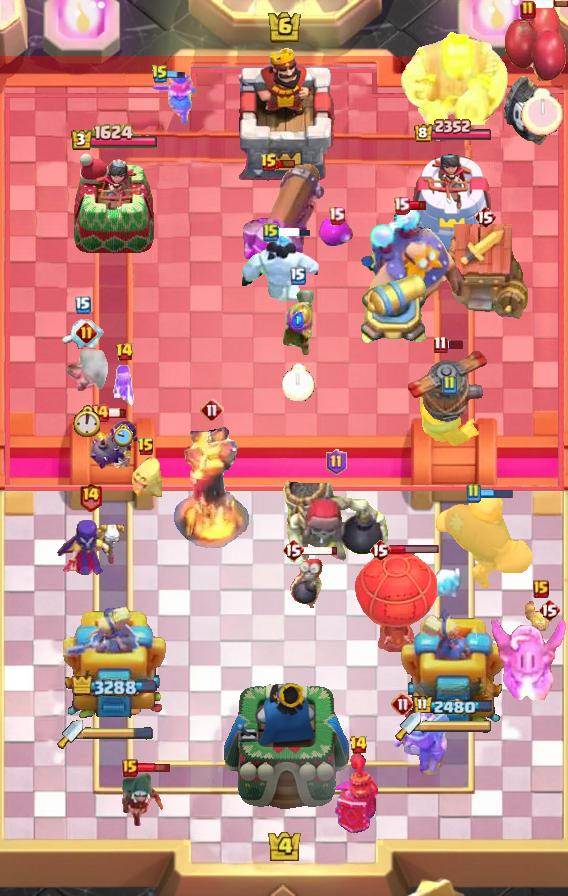axe: (56, 517, 124, 579)
balloon: (433, 492, 535, 592)
bandit: (389, 707, 451, 777)
bar: (401, 601, 505, 731), (60, 607, 168, 731)
bat: (424, 565, 466, 603), (61, 318, 105, 352)
bat-evolution: (128, 457, 164, 499)
bomb-tower: (280, 289, 316, 355)
cannon-cart: (353, 550, 437, 652)
dark-prince: (401, 346, 499, 428)
electro-dragon: (173, 424, 251, 552)
electro-giant: (280, 469, 392, 579)
electro-spirit: (292, 312, 304, 328)
elixir: (521, 88, 563, 136), (281, 363, 315, 401), (72, 405, 100, 437), (114, 424, 134, 448)
elixir-golem-big: (329, 752, 387, 834)
emote: (388, 544, 439, 555), (137, 762, 172, 775), (276, 226, 312, 238), (478, 487, 513, 499), (301, 544, 338, 555), (532, 0, 568, 8), (107, 407, 127, 419), (276, 159, 296, 170), (445, 339, 465, 350), (166, 68, 185, 79), (408, 201, 427, 212)
firecracker: (419, 390, 480, 447)
furnace: (239, 162, 329, 276)
giant-skeleton: (400, 31, 510, 125)
goblin: (112, 364, 136, 408)
goblin-ball: (88, 418, 142, 474)
hog-rider: (150, 73, 198, 127)
ice-golem: (289, 554, 325, 612)
ice-spirit-evolution: (522, 600, 560, 632)
king-tower: (219, 678, 349, 826), (229, 43, 339, 181)
king-tower-bar: (421, 719, 493, 733), (83, 727, 153, 741)
little-prince: (359, 204, 467, 330)
miner: (318, 218, 354, 248)
night-witch: (488, 616, 568, 700)
queen-tower: (410, 144, 496, 255), (71, 152, 157, 256)
rage: (239, 231, 321, 301)
royal-recruit: (358, 266, 430, 348)
royal-recruit-evolution: (500, 0, 568, 150)
selected: (69, 124, 158, 152), (71, 676, 156, 700), (413, 119, 493, 144), (412, 695, 494, 717)
sparky: (442, 223, 528, 321)
tesla: (120, 771, 164, 831), (62, 344, 110, 396)
text: (78, 480, 103, 511), (200, 398, 224, 422), (391, 692, 415, 716), (325, 449, 346, 475), (474, 205, 496, 229), (369, 538, 391, 562), (282, 538, 304, 562), (538, 598, 560, 622), (75, 322, 96, 343), (114, 342, 134, 362), (90, 403, 110, 423), (349, 735, 368, 755), (151, 64, 169, 84), (260, 153, 278, 173), (137, 437, 155, 457), (394, 197, 411, 216), (327, 206, 344, 225), (520, 0, 536, 20), (263, 222, 279, 242), (441, 375, 457, 395), (465, 483, 481, 503), (290, 267, 306, 285), (75, 296, 91, 314), (533, 580, 549, 598), (122, 759, 138, 777), (433, 335, 447, 354)
